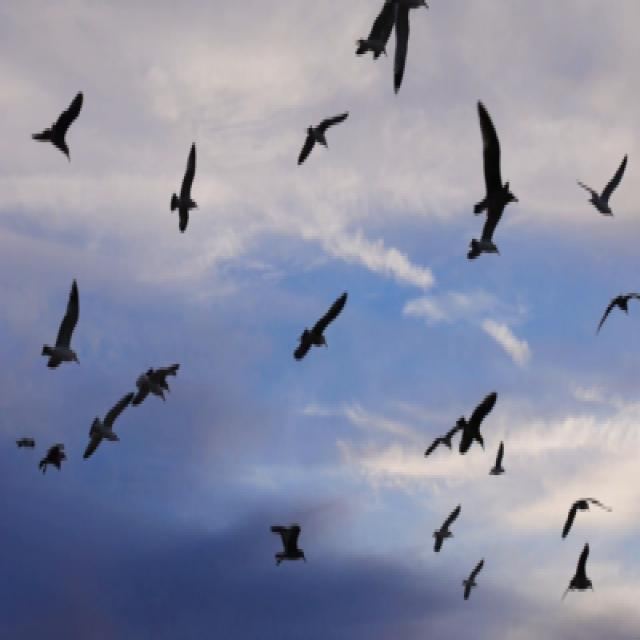birds: (466, 96, 524, 224), (287, 282, 351, 369), (28, 91, 94, 169), (38, 279, 84, 385), (162, 138, 205, 248), (83, 388, 142, 456), (292, 108, 356, 169), (578, 145, 628, 221), (458, 388, 500, 462), (266, 510, 311, 575), (558, 492, 612, 544), (126, 358, 183, 406), (600, 280, 640, 340), (561, 540, 597, 605), (427, 501, 465, 555), (466, 216, 500, 274), (423, 420, 460, 459), (463, 552, 486, 608), (491, 435, 508, 482)
